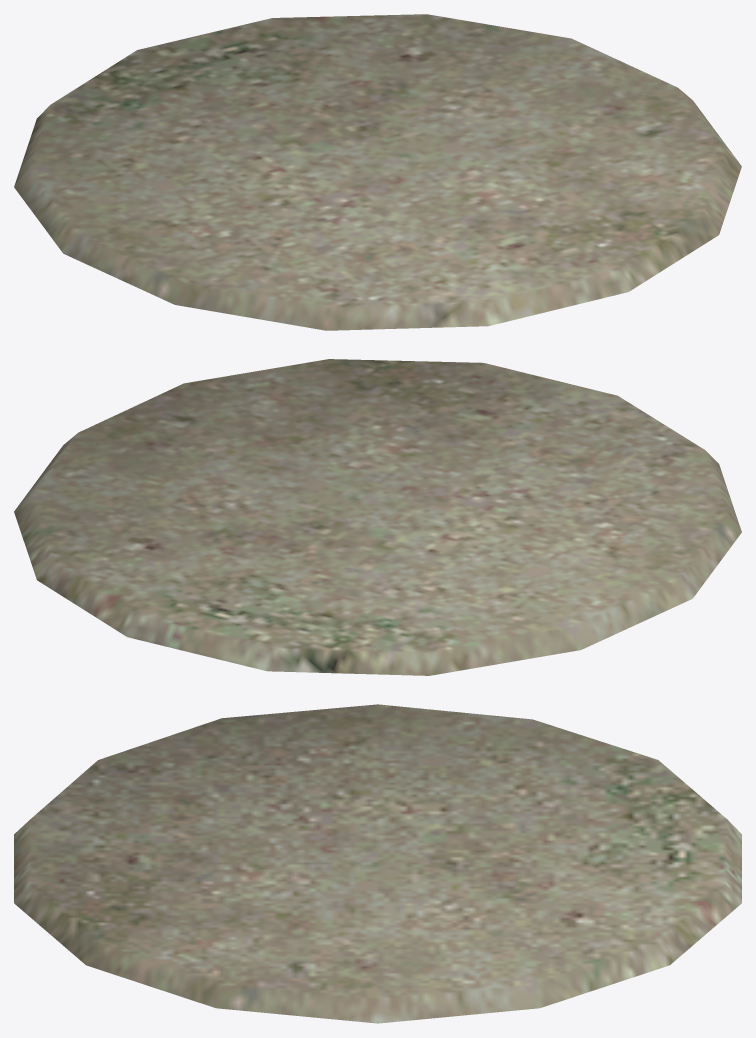
3 renders of one model, top to bottom at view 1: azimuth 30°, elevation 25°; view 2: azimuth 150°, elevation 25°; view 3: azimuth 270°, elevation 25°, orthographic.
Parts seen in each view (by area): view 1: Joint_0_Object_0; view 2: Joint_0_Object_0; view 3: Joint_0_Object_0.
Part boxes in pixels (x1,y1,x2,y2): Joint_0_Object_0: [14, 14, 741, 330]; Joint_0_Object_0: [14, 359, 741, 675]; Joint_0_Object_0: [14, 704, 741, 1023].
Bounding box in the file's own units: 530 × 13 × 527.
Materials: 1 (1 with a texture image).
